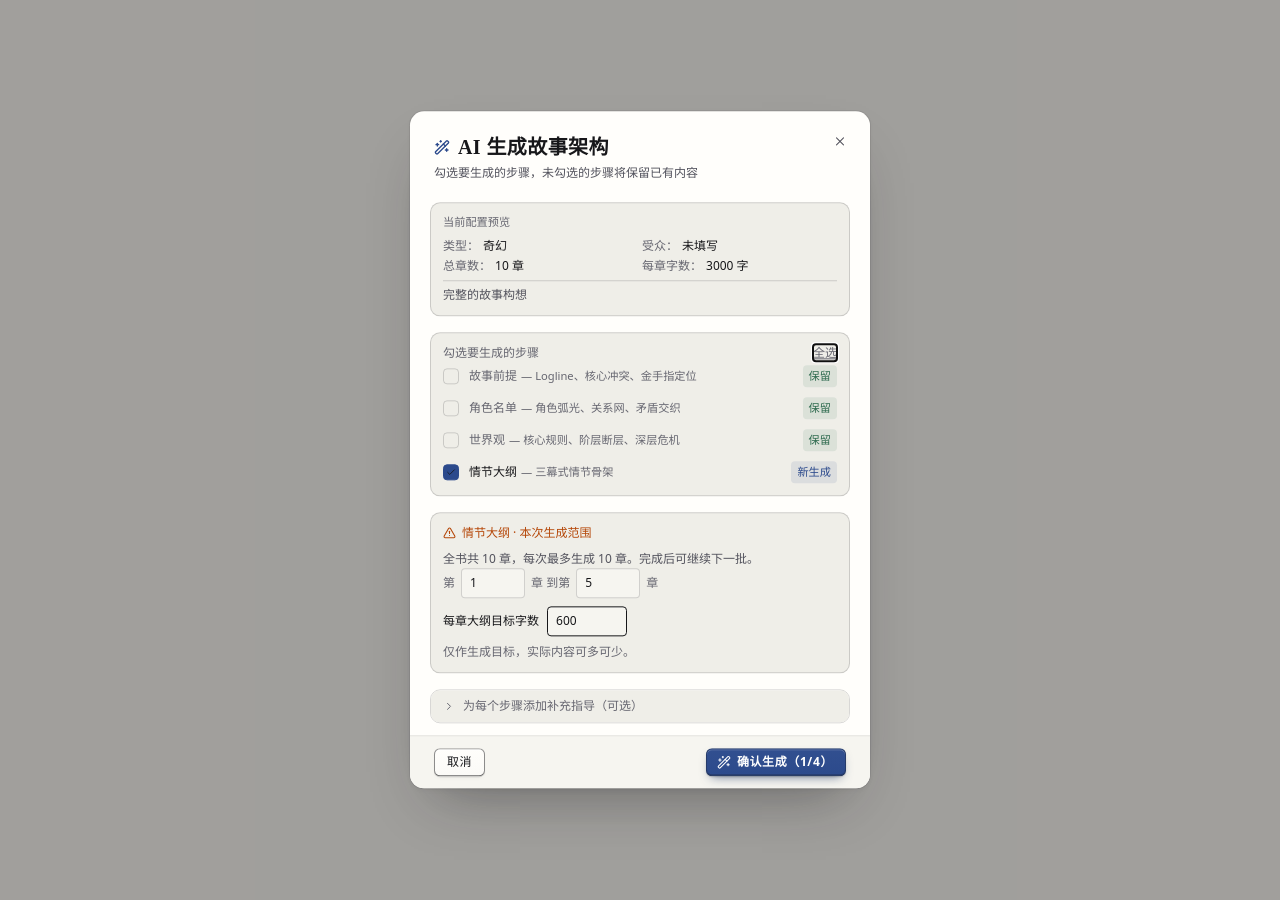
Test: workflow launch dialogs › rejects invalid synopsis range value -1 without falling back to the whole book
Type "-1" into the number field named "本次生成范围的起始章" at x=493, y=584, box [461,569,525,599]
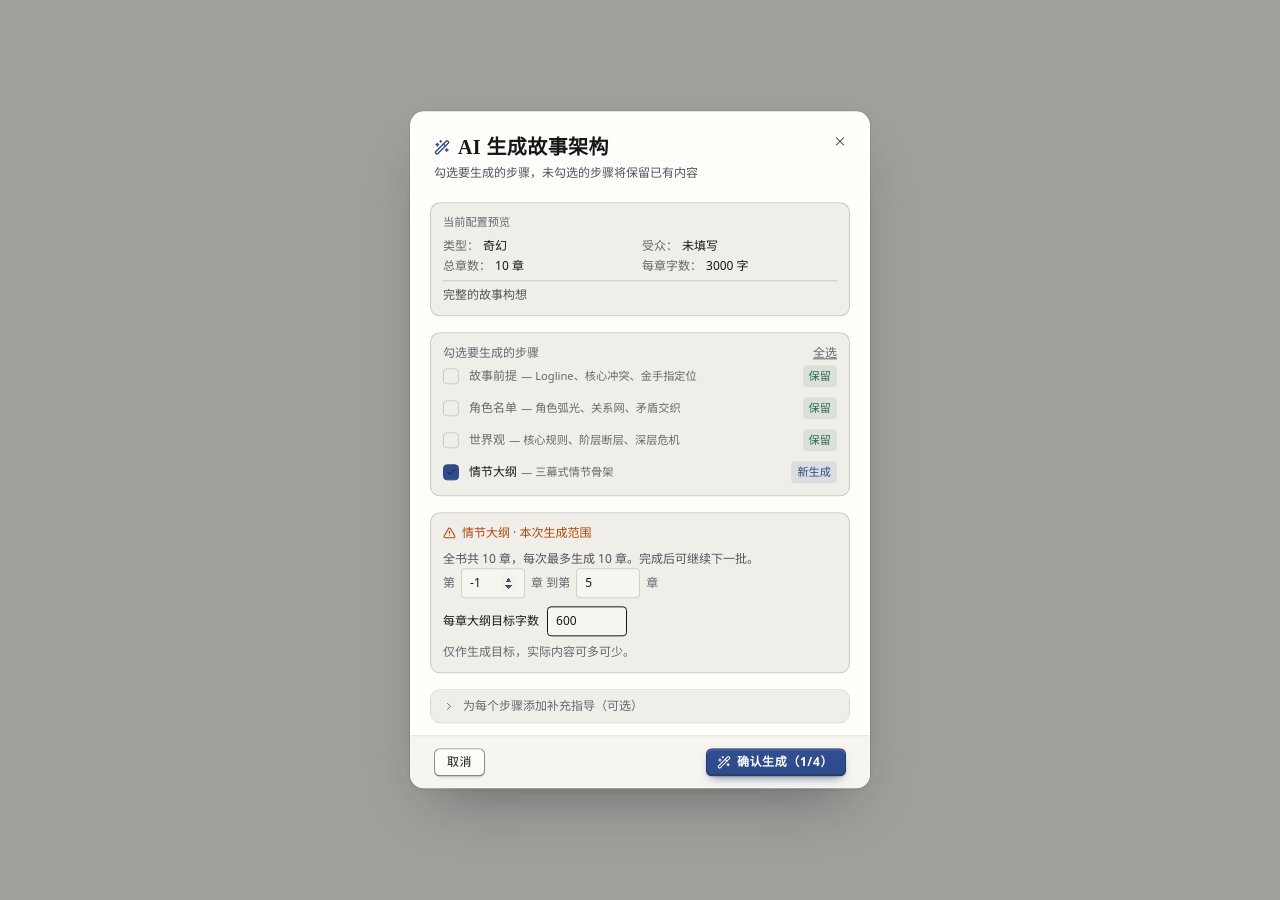
Click the button "确认生成（1/4）" at x=776, y=763, box [706,749,846,777]
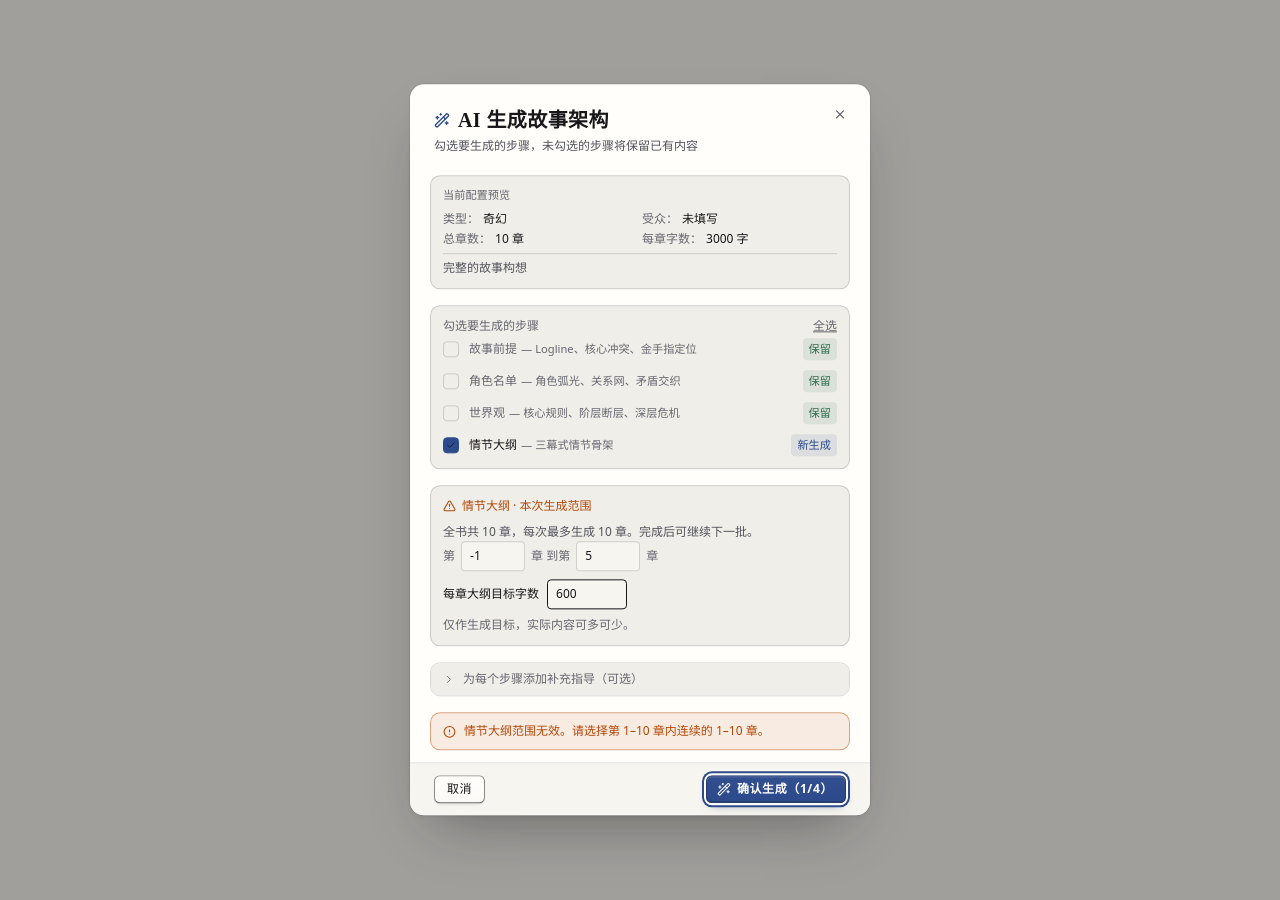
Expected: the text "情节大纲范围无效。请选择第 1–10 章内连续的 1–10 章。" is shown, [464,724,770,740]
